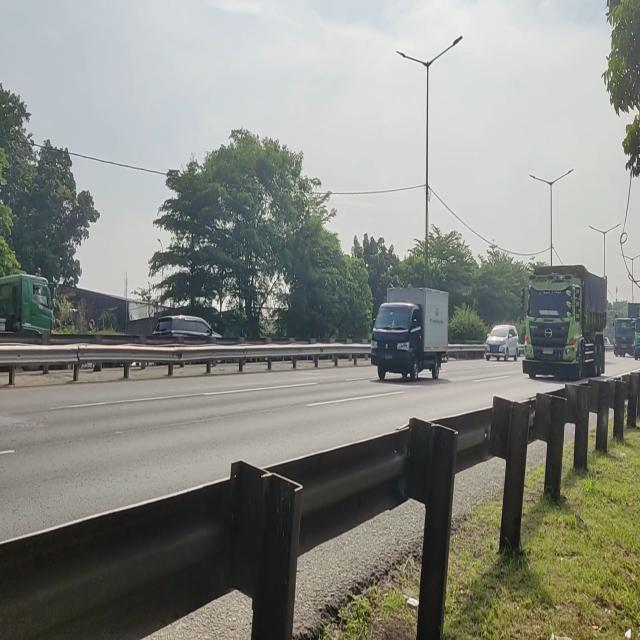Golongan I: (369, 282, 454, 386)
